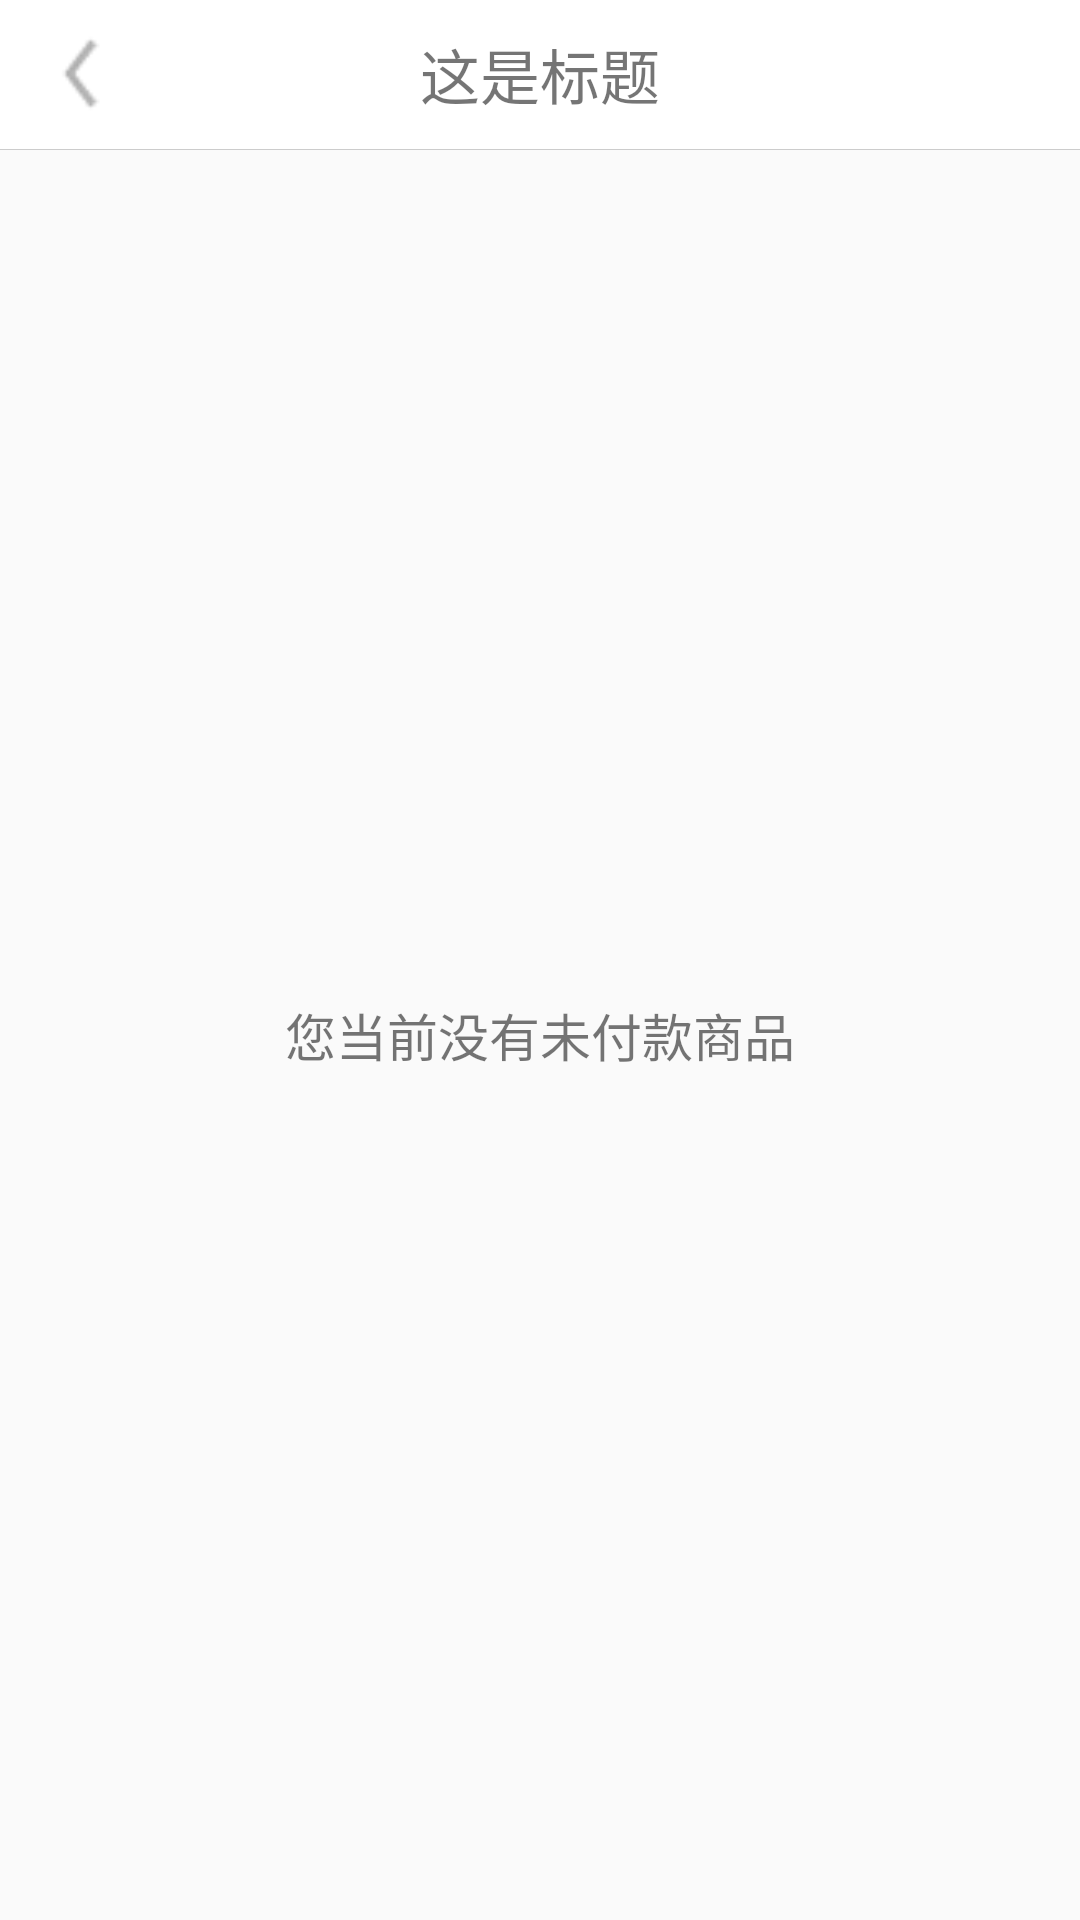

Icons on this 1080×1920 Android screen, each with its box as (x1, y1, x2, y2):
backbtn: (65, 40, 97, 107)
